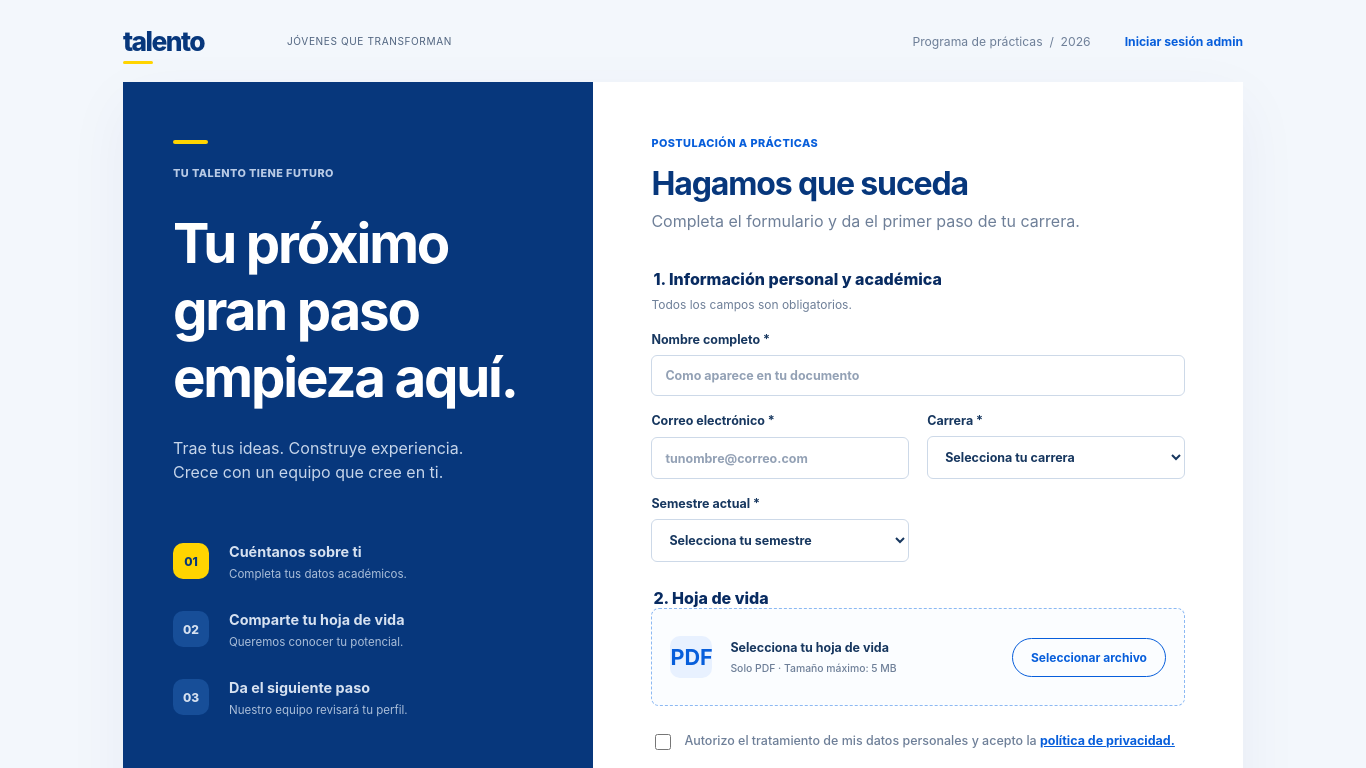
Test case: App › authenticates a selection user and opens the dashboard
Click the button "Iniciar sesión admin" at (1184, 41), box [1125, 24, 1243, 58]
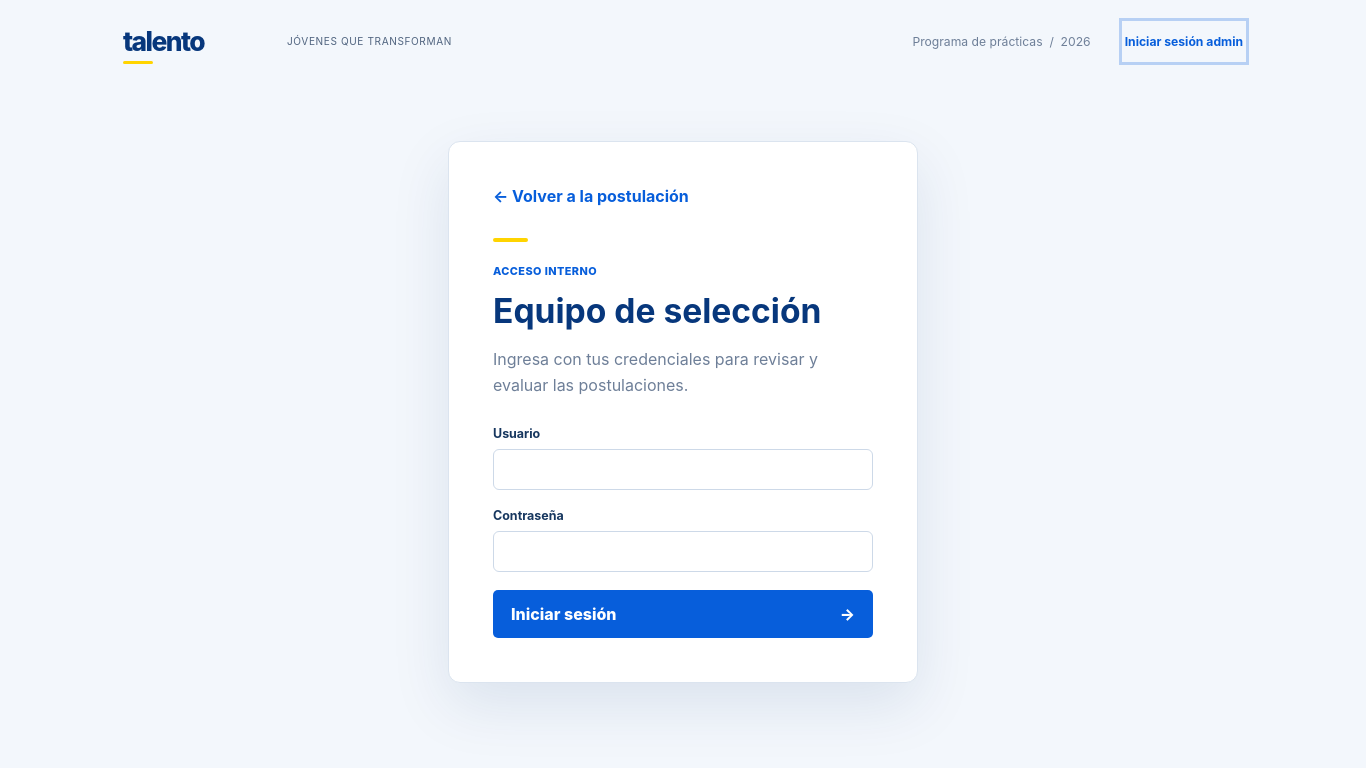
Type "analista" into the field labelled "Usuario" at (683, 470), box [493, 449, 873, 490]
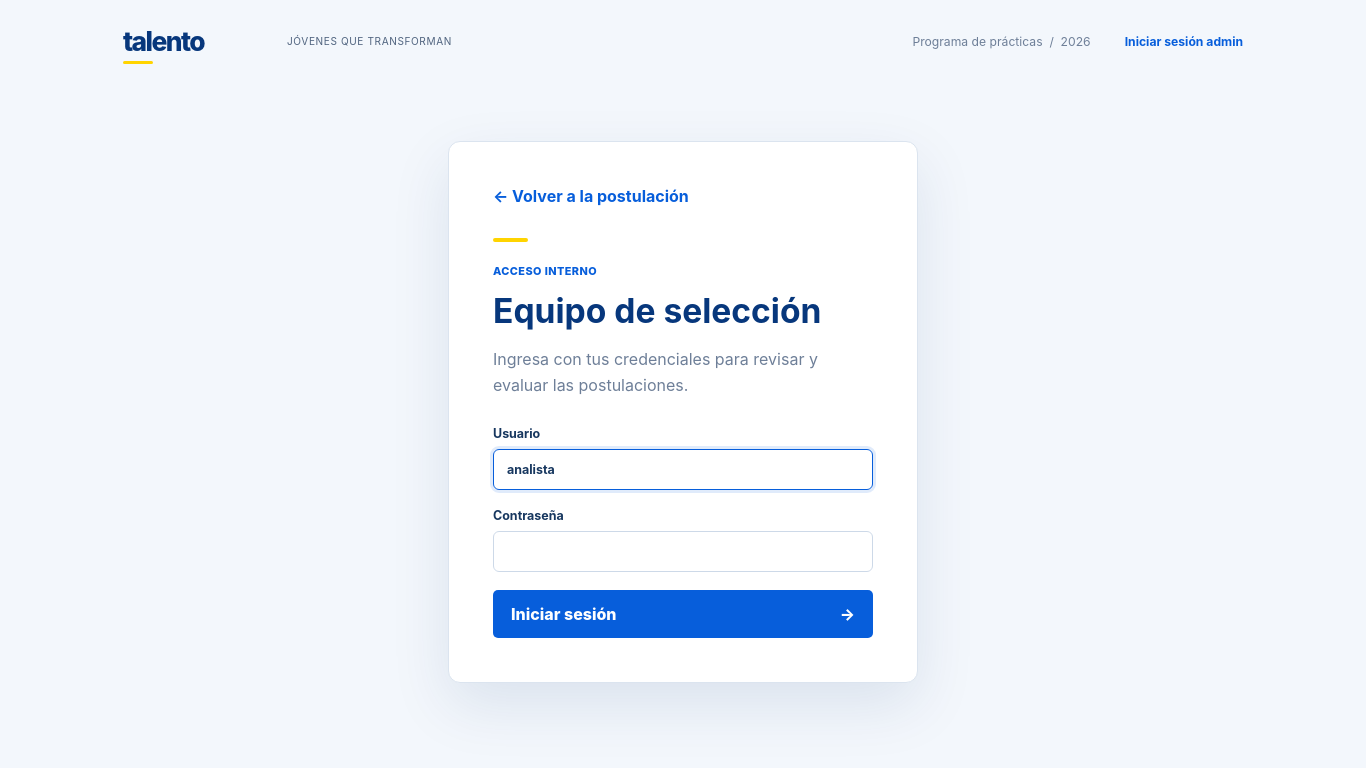
Type "secreto" into the password field labelled "Contraseña" at (683, 552), box [493, 531, 873, 572]
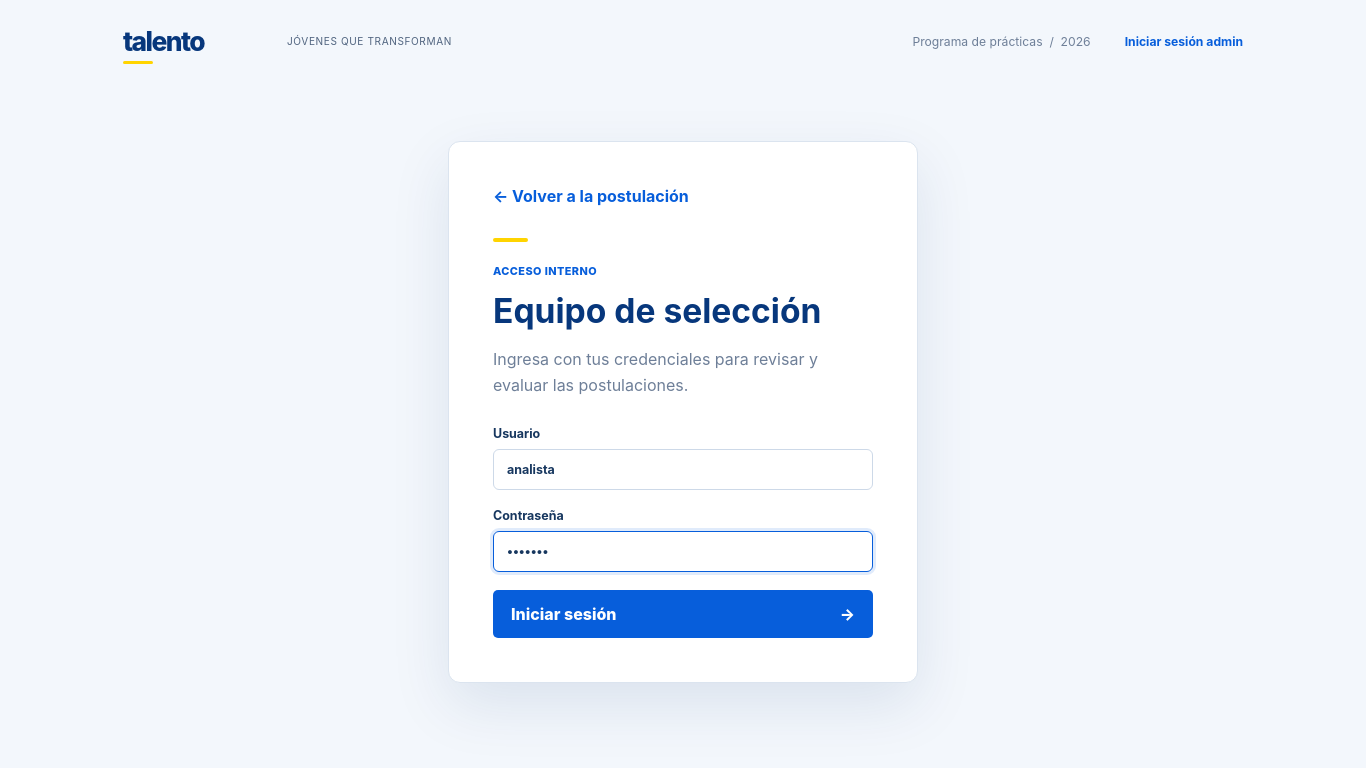
Click the button "Iniciar sesión →" at (564, 614), box [493, 590, 873, 638]
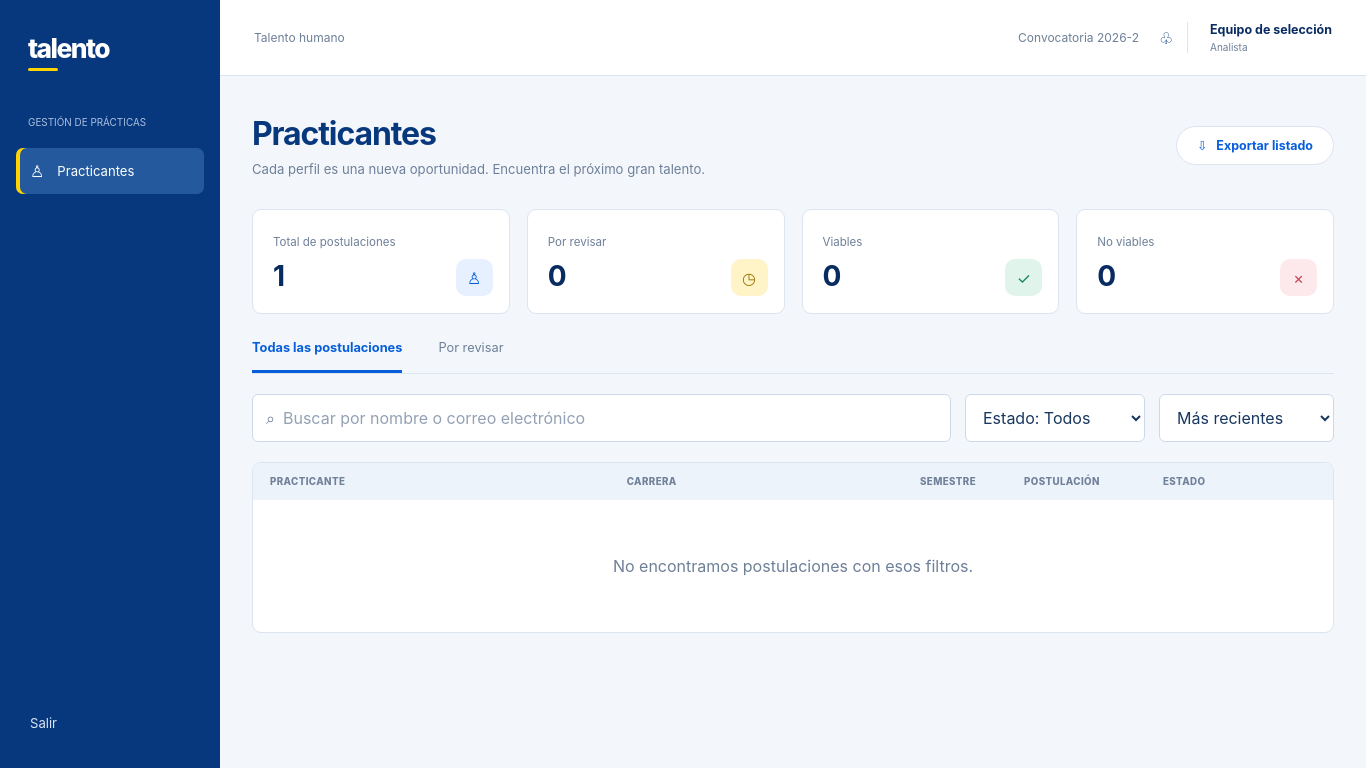
Check: the heading "Practicantes" is shown, box [252, 114, 436, 153]
